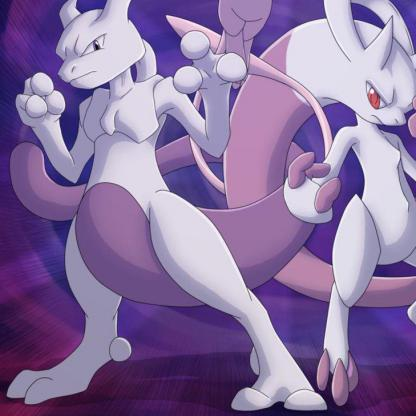Mewtwo: (1, 2, 416, 416)
